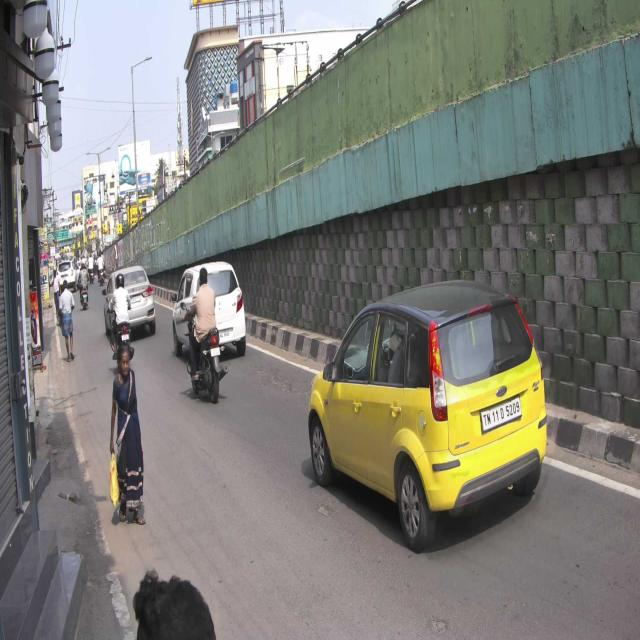single_rider: (180, 267, 229, 403)
